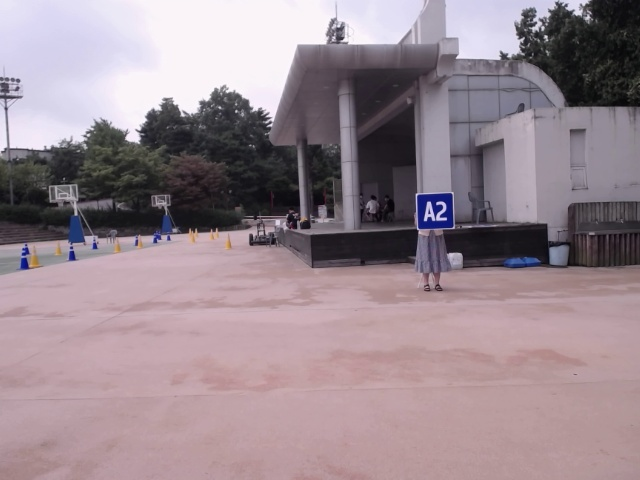delivery_a2: (416, 193, 454, 229)
